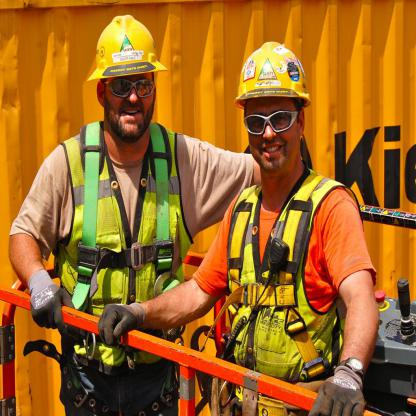face: (251, 85, 299, 164), (108, 57, 152, 132)
